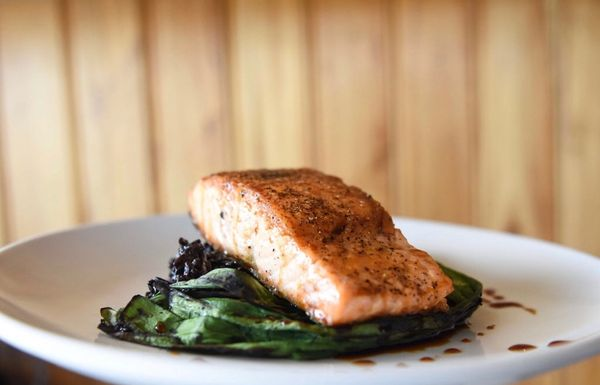soup: (100, 168, 478, 355)
